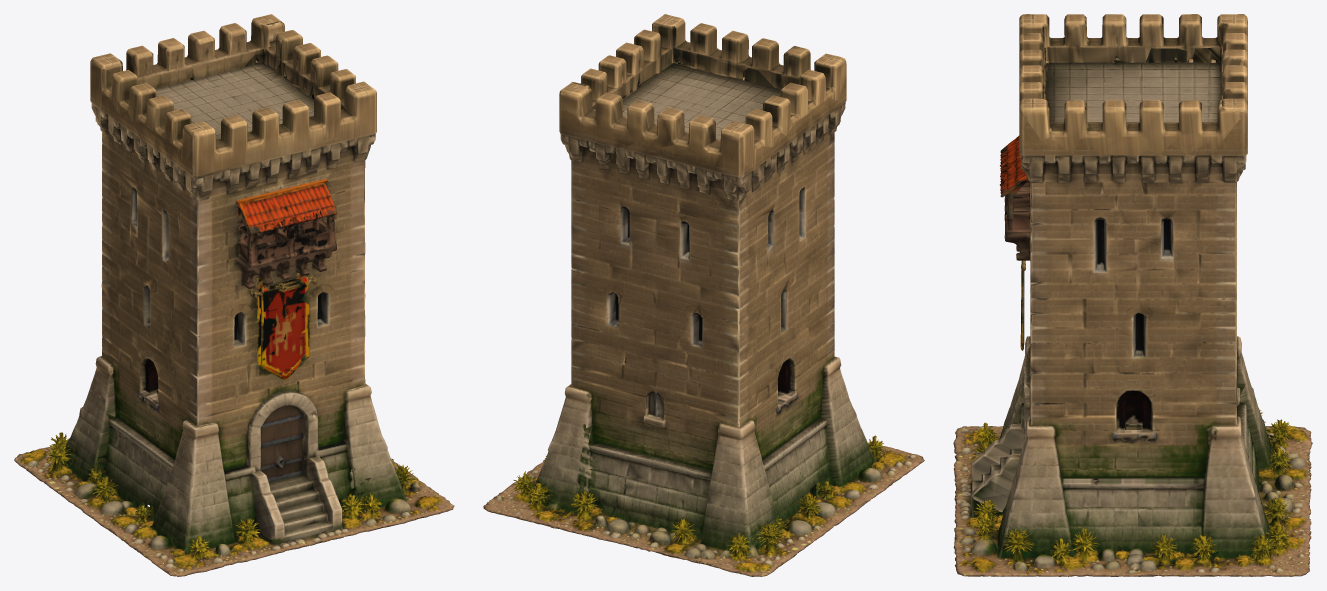
The model's file is SM_TorreFrontera.fbx.
The picture shows the model from 3 angles, left to right: view 1: azimuth 30°, elevation 25°; view 2: azimuth 150°, elevation 25°; view 3: azimuth 270°, elevation 25°; orthographic projection. The views are drawn at different scales.
Parts seen in each view (by area): view 1: SM_TorreFrontera; view 2: SM_TorreFrontera; view 3: SM_TorreFrontera.
Boxes of the visible parts, x1,y1,x2,y2 form: SM_TorreFrontera: (14,14,454,576); SM_TorreFrontera: (483,14,924,576); SM_TorreFrontera: (953,14,1312,576).
Size of the model in its own units: 98.67 by 136 by 99.9.
1 material, 1 textured.
